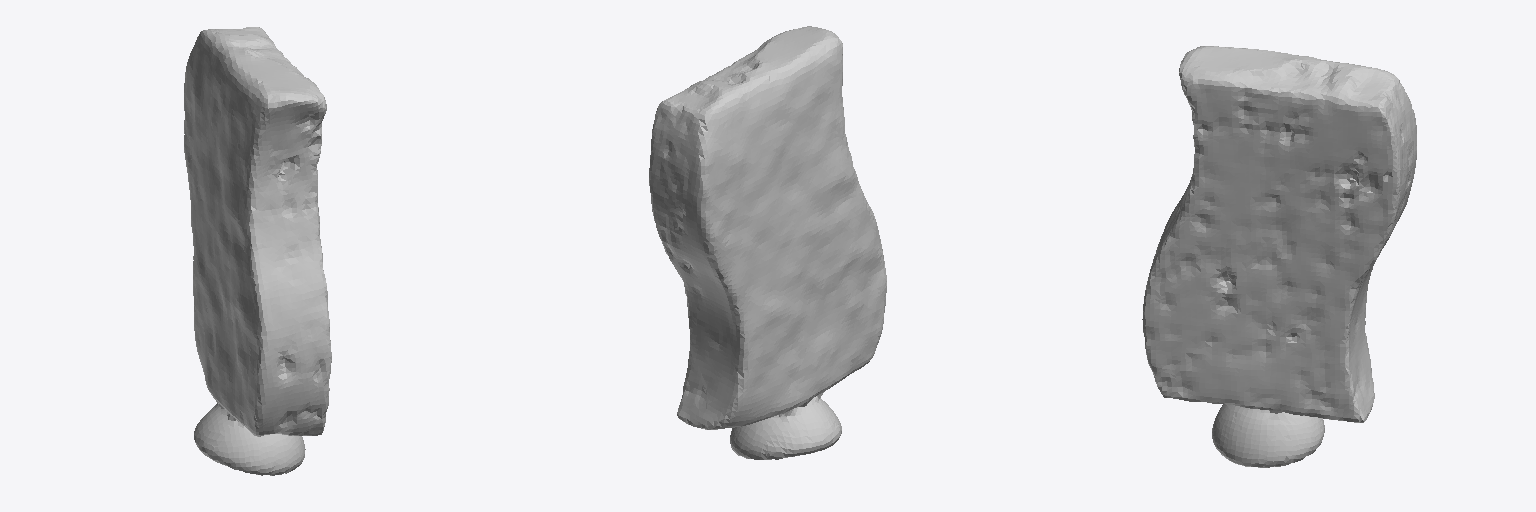
3 views of the same model, side by side, from view 1: azimuth 30°, elevation 25°; view 2: azimuth 150°, elevation 25°; view 3: azimuth 270°, elevation 25° (orthographic).
Parts seen in each view (by area): view 1: final; view 2: final; view 3: final.
Boxes of the visible parts, x1,y1,x2,y2 form: final: [184, 27, 331, 475]; final: [649, 26, 886, 459]; final: [1142, 46, 1416, 467].
Bounding box in the file's own units: 0.229 × 0.7166 × 0.4502.